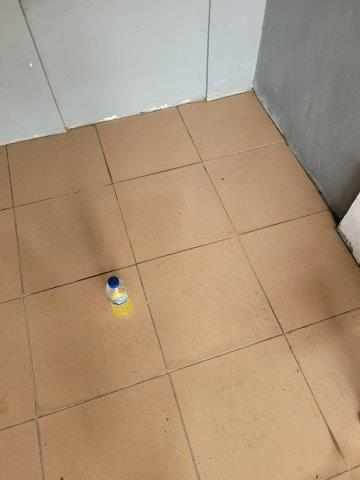botolplastik: (105, 276, 133, 318)
